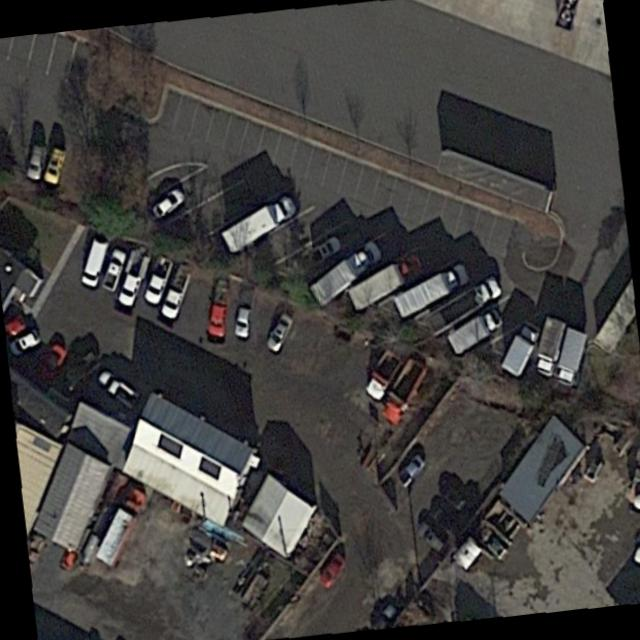large-vehicle: (422, 274, 505, 339), (311, 238, 384, 306), (220, 192, 299, 254), (348, 252, 425, 314), (393, 260, 469, 319), (94, 484, 145, 569), (378, 354, 429, 427), (446, 307, 503, 358), (531, 314, 568, 379), (501, 321, 543, 378), (363, 347, 402, 404), (558, 326, 591, 387)
small-vehicle: (115, 247, 150, 309), (159, 265, 193, 322), (94, 366, 141, 407), (78, 234, 111, 291), (142, 254, 174, 306), (36, 339, 71, 386), (149, 181, 188, 222), (264, 309, 297, 356), (207, 278, 232, 339), (303, 232, 345, 267), (316, 550, 349, 592), (413, 519, 448, 557), (101, 248, 129, 294), (395, 451, 428, 490), (42, 145, 68, 187), (8, 327, 44, 357), (234, 291, 255, 340), (25, 141, 48, 179)
